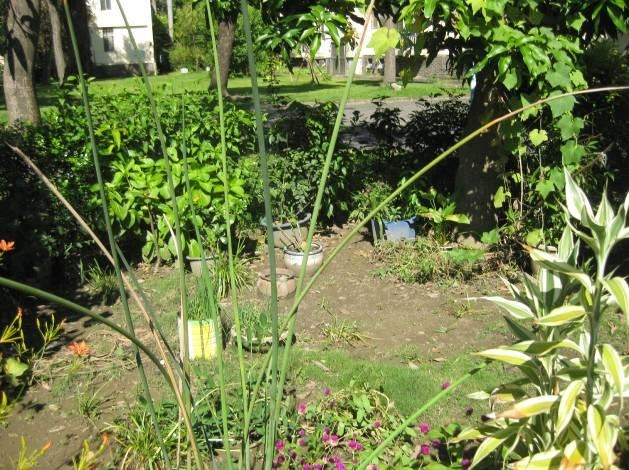bowl: (257, 267, 297, 296)
bucket: (174, 308, 221, 361)
